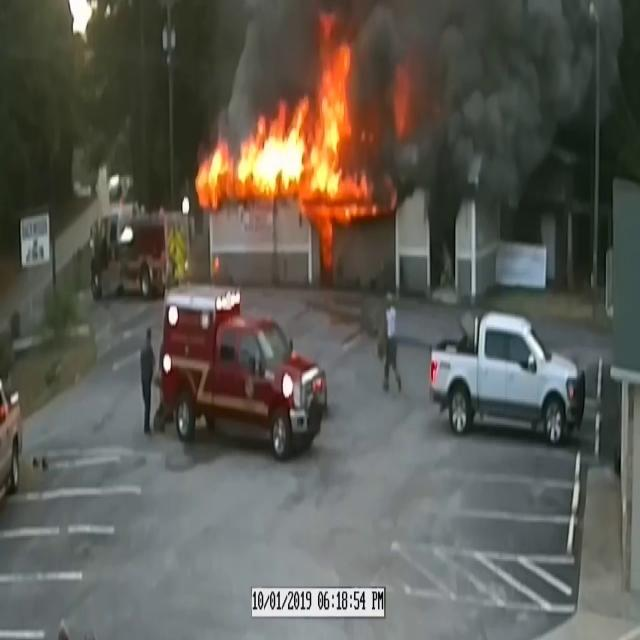Fire: (200, 42, 368, 215)
Smoke: (383, 0, 584, 206)
